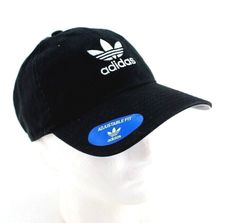adidas Originale: (82, 34, 144, 80), (103, 124, 126, 147)
